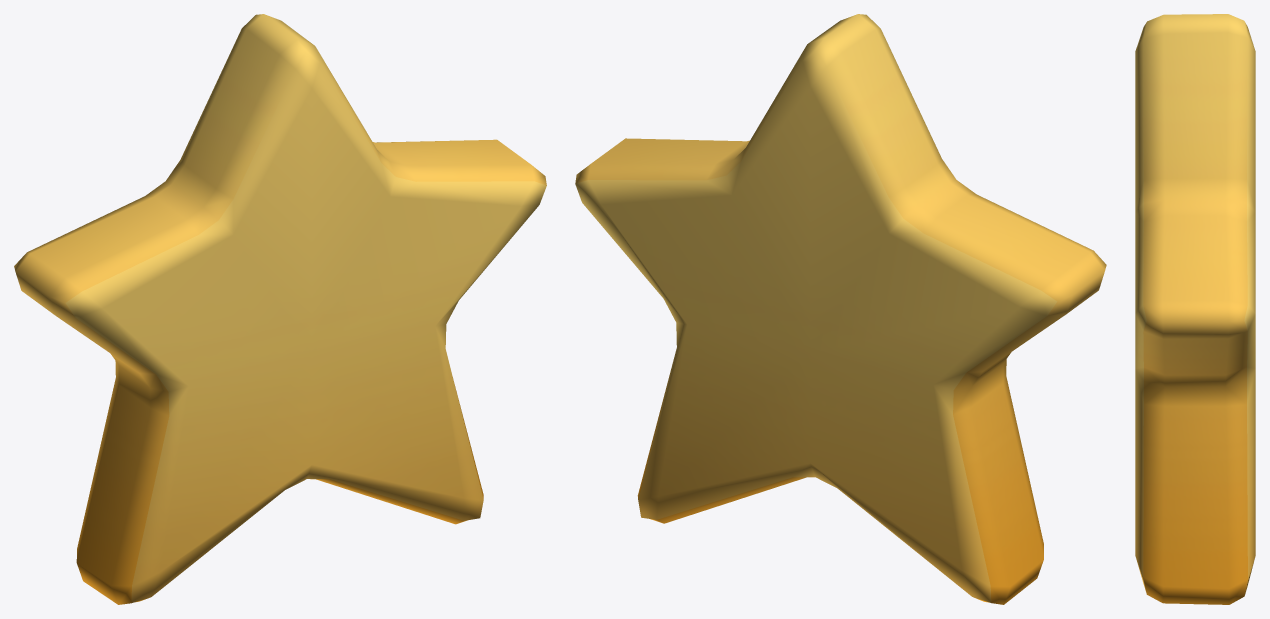
File: mesh_star.fbx
3 views of the same model, side by side, from view 1: azimuth 30°, elevation 25°; view 2: azimuth 150°, elevation 25°; view 3: azimuth 270°, elevation 25° (orthographic). The views are drawn at different scales.
Visible parts, largest first — view 1: mesh_star; view 2: mesh_star; view 3: mesh_star.
Boxes of the visible parts, x1,y1,x2,y2 form: mesh_star: (14, 14, 546, 604); mesh_star: (575, 14, 1106, 604); mesh_star: (1135, 14, 1255, 604).
Size of the model in its own units: 1.59 by 1.61 by 0.3456.
Materials: 1 (1 with a texture image).
